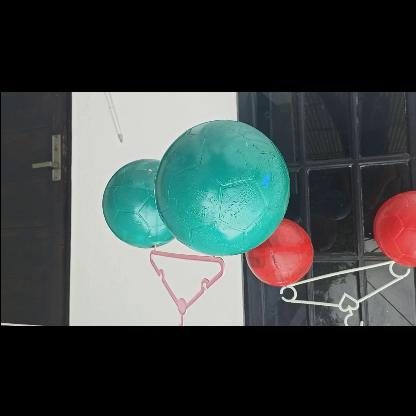green_ball: (156, 121, 289, 254), (102, 160, 190, 248)
